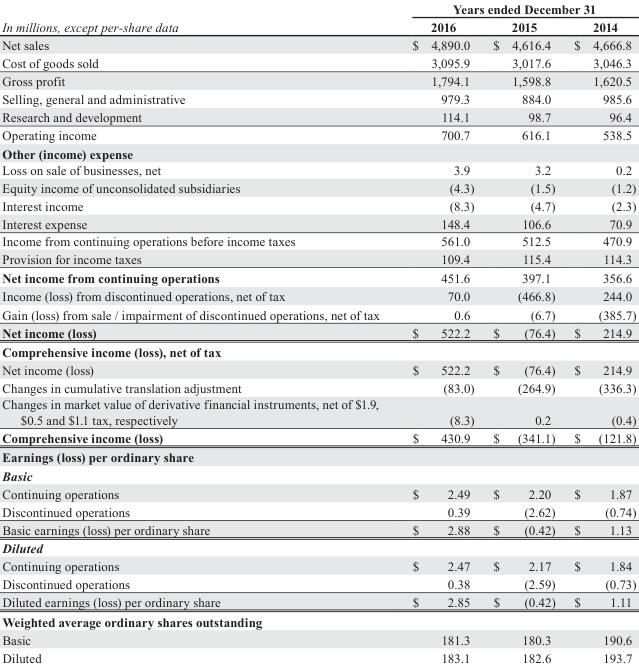table: (1, 1, 635, 664)
table column: (1, 1, 395, 664), (395, 1, 483, 664), (483, 1, 563, 664), (563, 1, 635, 664)
table column header: (1, 1, 635, 35)
table projected row header: (1, 341, 635, 360), (1, 447, 635, 466), (1, 611, 635, 630), (1, 466, 635, 484), (1, 538, 635, 556), (1, 144, 635, 161)
table row: (1, 395, 635, 428), (1, 89, 635, 108), (1, 249, 635, 268), (1, 268, 635, 287), (1, 341, 635, 360), (1, 428, 635, 447), (1, 447, 635, 466), (1, 592, 635, 611), (1, 611, 635, 630), (1, 17, 635, 35), (1, 35, 635, 53), (1, 53, 635, 71), (1, 71, 635, 89), (1, 108, 635, 126), (1, 126, 635, 144), (1, 178, 635, 196), (1, 196, 635, 214), (1, 214, 635, 232), (1, 287, 635, 305), (1, 305, 635, 323), (1, 323, 635, 341), (1, 360, 635, 378), (1, 466, 635, 484), (1, 484, 635, 502), (1, 502, 635, 520), (1, 520, 635, 538), (1, 538, 635, 556), (1, 556, 635, 574), (1, 574, 635, 592), (1, 630, 635, 648), (1, 144, 635, 161), (1, 161, 635, 178), (1, 232, 635, 249), (1, 378, 635, 395), (1, 1, 635, 17), (1, 648, 635, 664)
table spanning cell: (1, 1, 395, 35), (395, 1, 635, 17)
